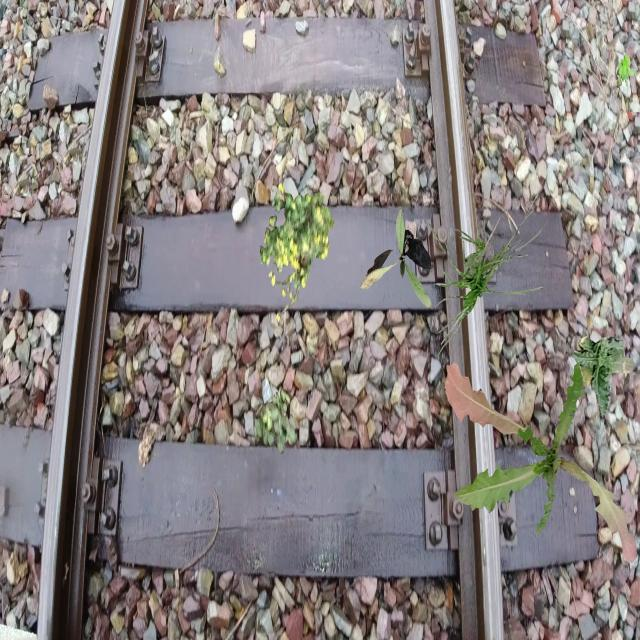Plant: (445, 361, 638, 564), (427, 193, 546, 357), (260, 183, 335, 323), (360, 209, 432, 308), (572, 336, 636, 419), (254, 388, 298, 454), (617, 54, 638, 87)
